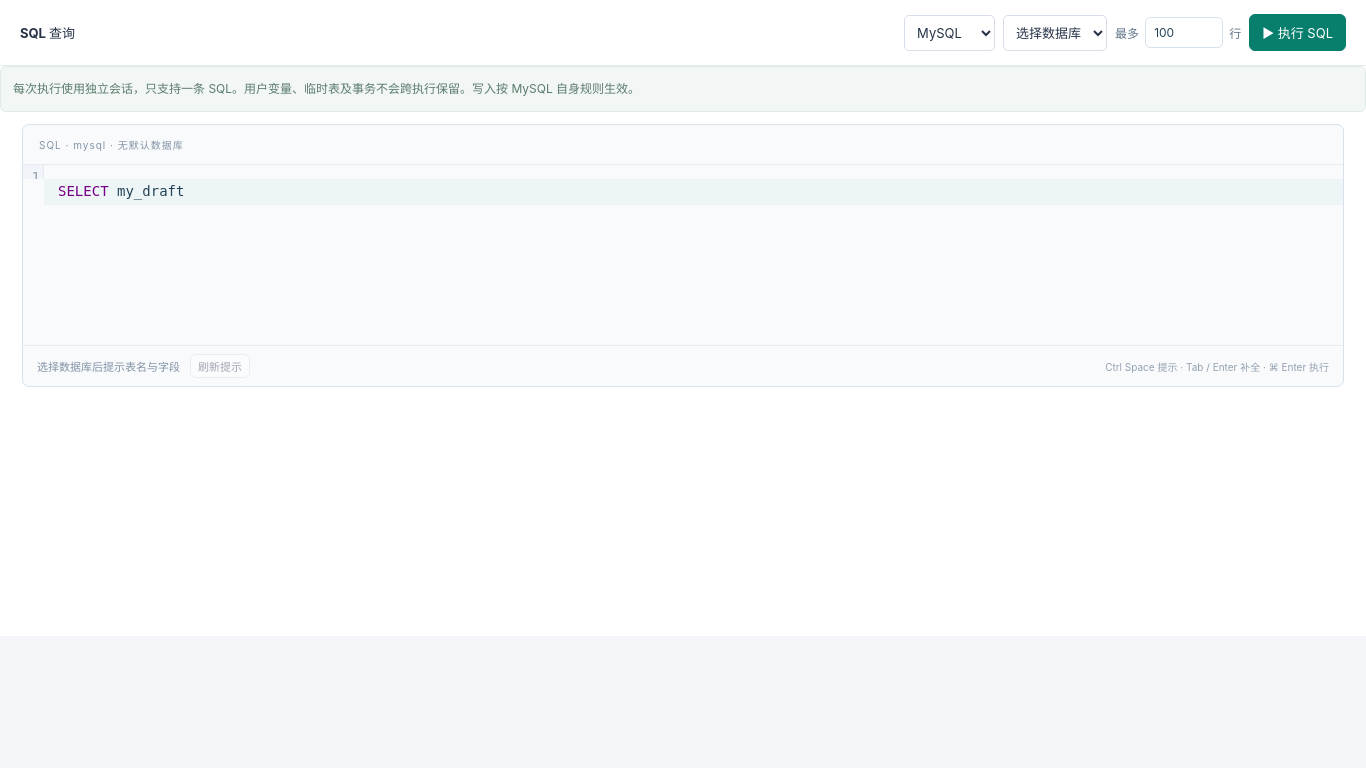
Scenario: switching SQL dialect keeps the edited draft and completed partial output stays successful
Select "SQLite" in the dropdown named "SQL 连接" at {"x": 950, "y": 32}, box [904, 14, 995, 50]
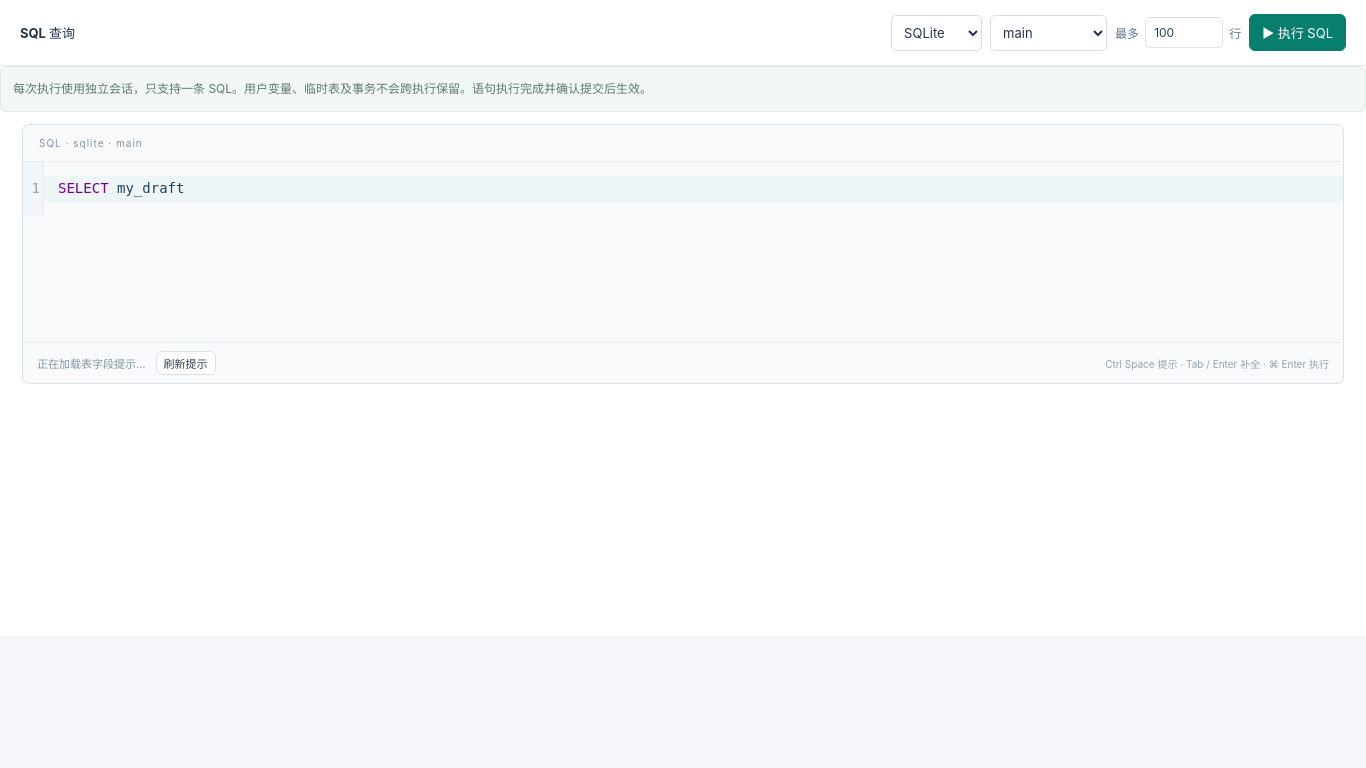
Expected: the field named "SQL 内容" reads "SELECT my_draft", [44, 176, 1343, 202]
Click the button "▶ 执行 SQL" at {"x": 1298, "y": 32}, box [1249, 14, 1346, 51]
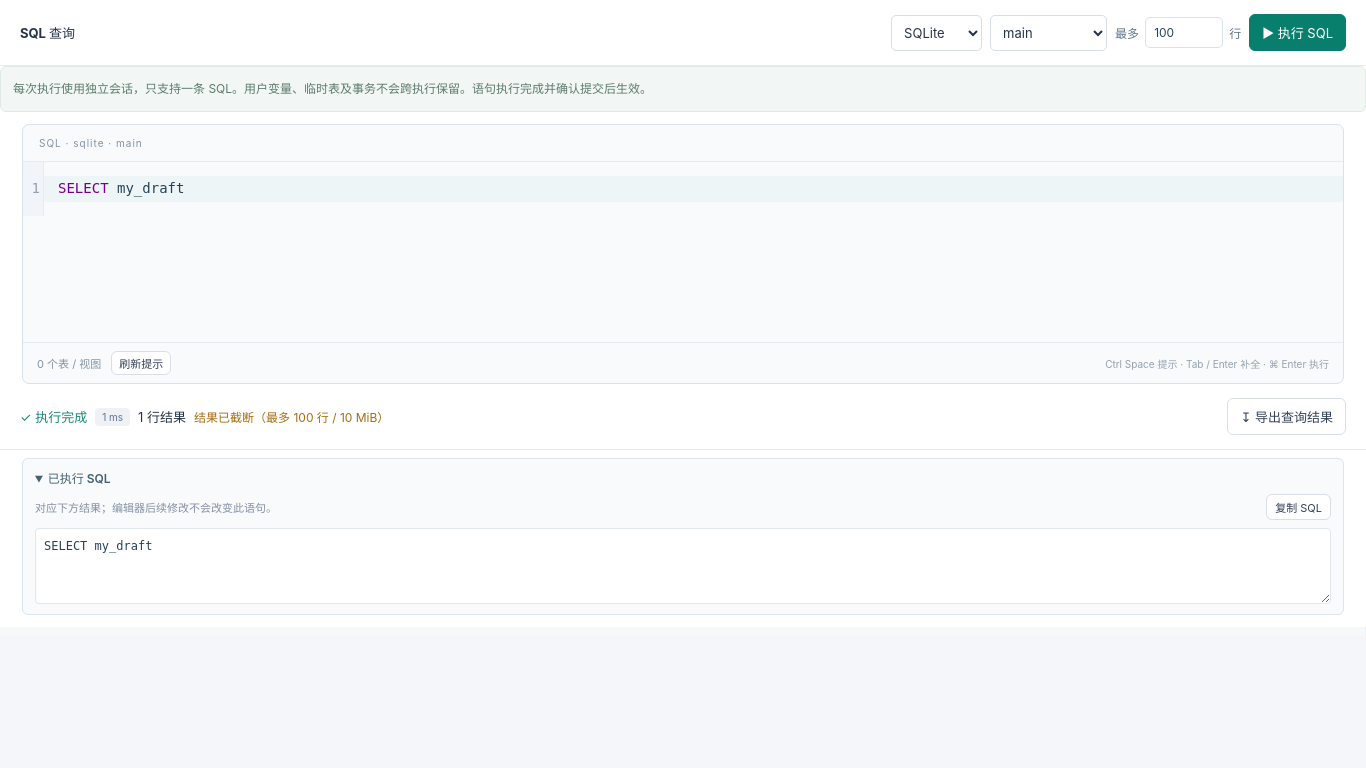
Expected: the text "✓ 执行完成" is shown, [20, 407, 87, 426]
